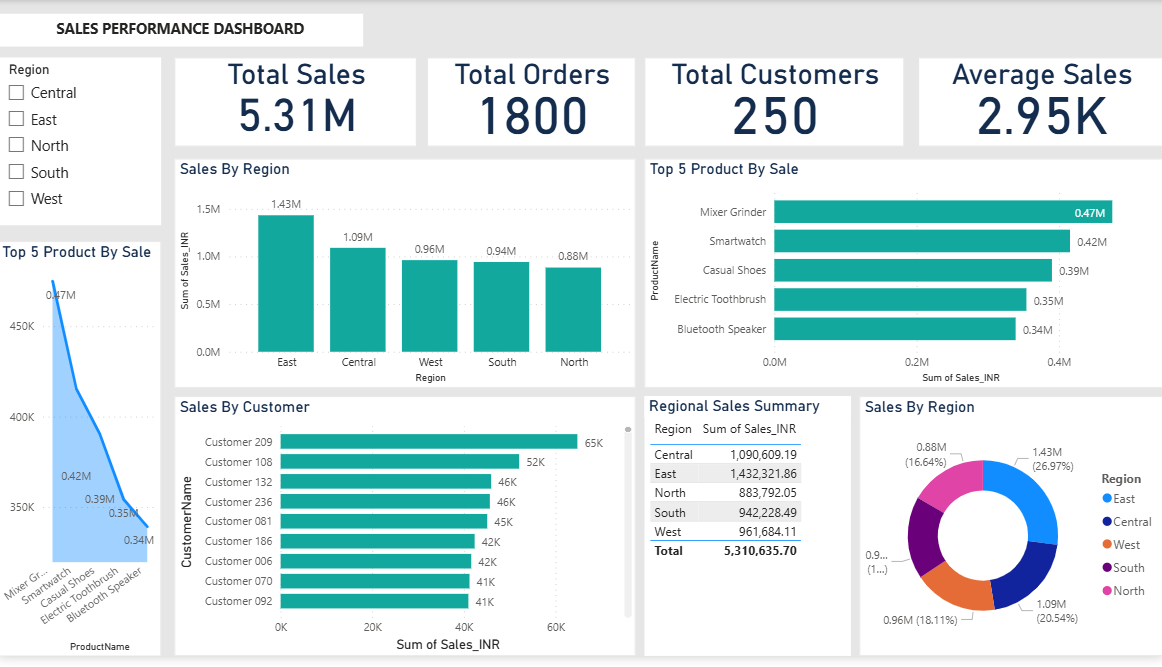

Layout of this report page (visuals, bound fields, positions):
{"tool":"powerbi","page":{"name":"Page 1","canvas":[1280,720],"ordinal":0},"visuals":[{"type":"card","title":"Total Sales","fields":{"Values":["Sum(SalesData.Sales_INR)"]},"box":[194.7,63.1,266,97.3],"z":0},{"type":"textbox","box":[0,15.1,401.7,35.6],"z":1000},{"type":"card","title":"Total Orders","fields":{"Values":["Count(SalesData.OrderID)"]},"box":[471.6,63.1,229,97.3],"z":2000},{"type":"card","title":"Total Customers","fields":{"Values":["Count(Customers.CustomerName)"]},"box":[710.2,63.1,285.2,97.3],"z":3000},{"type":"card","title":"Average Sales","fields":{"Values":["Avg(SalesData.Sales_INR)"]},"box":[1010.5,63.1,270.1,97.3],"z":4000},{"type":"clusteredColumnChart","title":"Sales By Region","fields":{"Category":["Customers.Region"],"Y":["Sum(SalesData.Sales_INR)"]},"box":[194.7,174.1,505.9,250.9],"z":5000},{"type":"clusteredBarChart","title":"Top 5 Product By Sale","fields":{"Category":["Products.ProductName"],"Y":["Sum(SalesData.Sales_INR)"]},"box":[710.2,174.1,570.4,250.9],"z":6000},{"type":"clusteredBarChart","title":"Sales By Customer ","fields":{"Category":["Customers.CustomerName"],"Y":["Sum(SalesData.Sales_INR)"]},"box":[194.7,434.6,505.9,285.2],"z":7000},{"type":"tableEx","title":"Regional Sales Summary","fields":{"Values":["SalesData.Region","Sum(SalesData.Sales_INR)"]},"box":[710.2,434.6,226.2,285.2],"z":8000},{"type":"slicer","fields":{"Values":["SalesData.Region"]},"box":[0,63.1,179.6,183.7],"z":9000},{"type":"donutChart","title":"Sales By Region","fields":{"Category":["Customers.Region"],"Y":["Sum(SalesData.Sales_INR)"]},"box":[946,434.6,334.5,285.2],"z":9001},{"type":"stackedAreaChart","title":"Top 5 Product By Sale","fields":{"Category":["Products.ProductName"],"Y":["Sum(SalesData.Sales_INR)"]},"box":[0,264.6,179.6,455.2],"z":9002}]}

Visuals, with their boxes in screenshot pixels (x1, y1, x2, y2), scaled from the page's 1280x720 canvas onto the 1162x667 screenshot:
"Total Sales" card: [x1=177, y1=58, x2=418, y2=149]
textbox: [x1=0, y1=14, x2=365, y2=47]
"Total Orders" card: [x1=428, y1=58, x2=636, y2=149]
"Total Customers" card: [x1=645, y1=58, x2=904, y2=149]
"Average Sales" card: [x1=917, y1=58, x2=1161, y2=149]
"Sales By Region" clusteredColumnChart: [x1=177, y1=161, x2=636, y2=394]
"Top 5 Product By Sale" clusteredBarChart: [x1=645, y1=161, x2=1161, y2=394]
"Sales By Customer " clusteredBarChart: [x1=177, y1=403, x2=636, y2=666]
"Regional Sales Summary" tableEx: [x1=645, y1=403, x2=850, y2=666]
slicer - SalesData.Region: [x1=0, y1=58, x2=163, y2=229]
"Sales By Region" donutChart: [x1=859, y1=403, x2=1161, y2=666]
"Top 5 Product By Sale" stackedAreaChart: [x1=0, y1=245, x2=163, y2=666]
